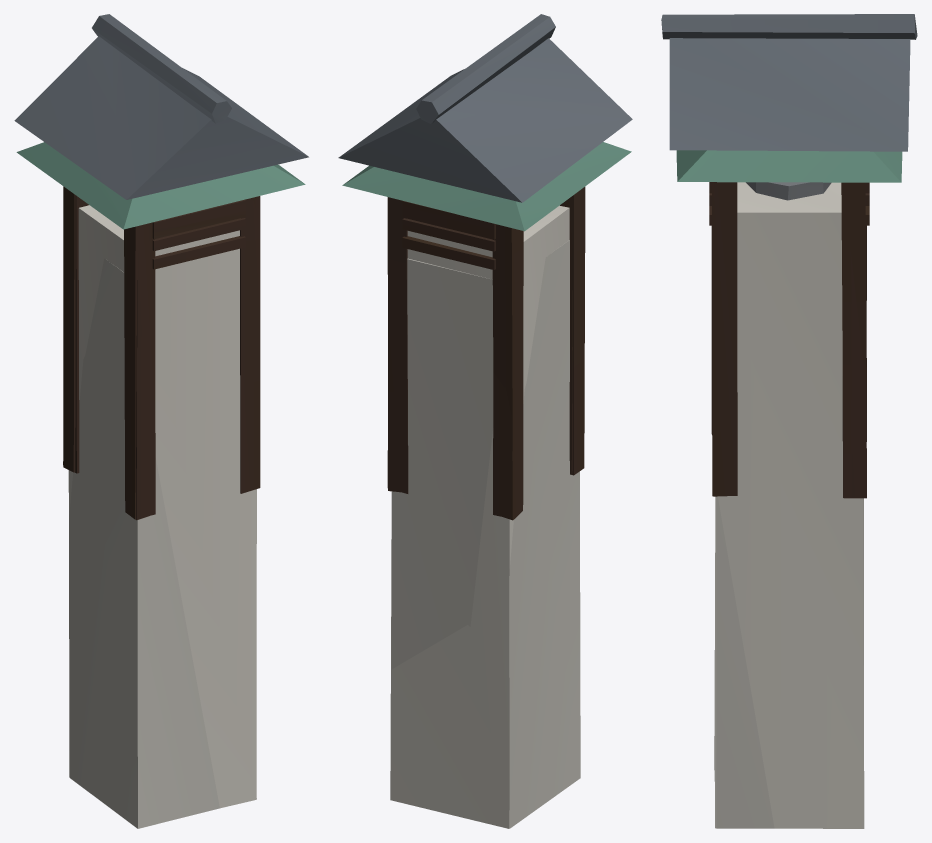
Rendered from chimney.glb.
3 views of the same model, side by side, from view 1: azimuth 30°, elevation 25°; view 2: azimuth 150°, elevation 25°; view 3: azimuth 270°, elevation 25° (orthographic). The views are drawn at different scales.
Parts seen in each view (by area): view 1: chimney.v0.mesh, chimney.v2.mesh; view 2: chimney.v2.mesh, chimney.v0.mesh; view 3: chimney.v0.mesh, chimney.v2.mesh, chimney.v1.mesh.
Part boxes in pixels (x1,y1,x2,y2): chimney.v0.mesh: [14, 14, 308, 808]; chimney.v2.mesh: [16, 142, 305, 828]; chimney.v2.mesh: [342, 142, 631, 828]; chimney.v0.mesh: [338, 14, 632, 828]; chimney.v0.mesh: [661, 14, 917, 828]; chimney.v2.mesh: [676, 150, 902, 828]; chimney.v1.mesh: [746, 182, 831, 200].
Bounding box in the file's own units: 0.6835 × 2.58 × 0.7677.
